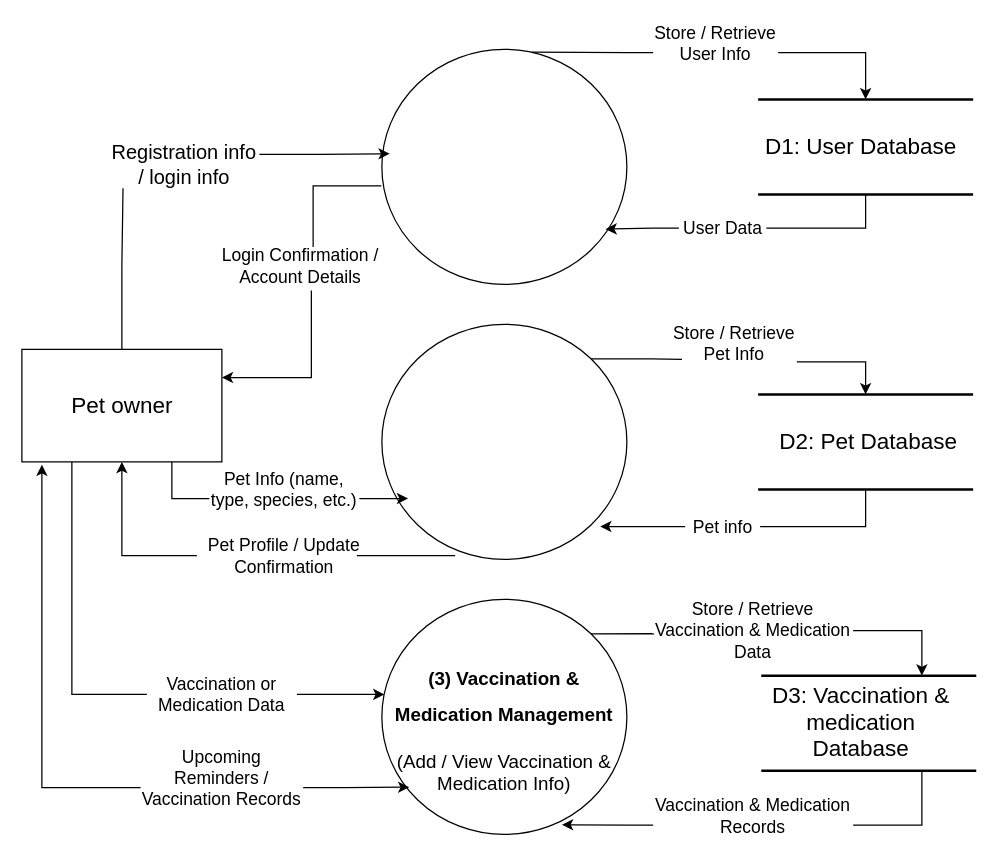
Some shapes in this 998 by 858 pixel diagram are drawn without their labels. The shapes that lost their labels are listed below. From the top down, each one's box as (x1, y1, x2, y2) in pixels, then its label:
(381, 48, 627, 284): (1) Account management Register / Login
(381, 323, 627, 559): (2) Pet management (Add / Edit / Delete Pet Profile)
